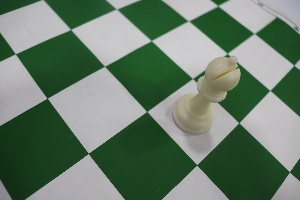white_bishop: (169, 30, 240, 153)
